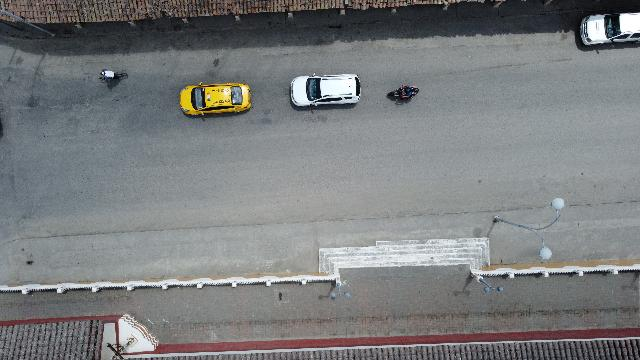Vehiculo: (179, 82, 251, 116), (290, 73, 360, 107), (580, 12, 640, 47)
